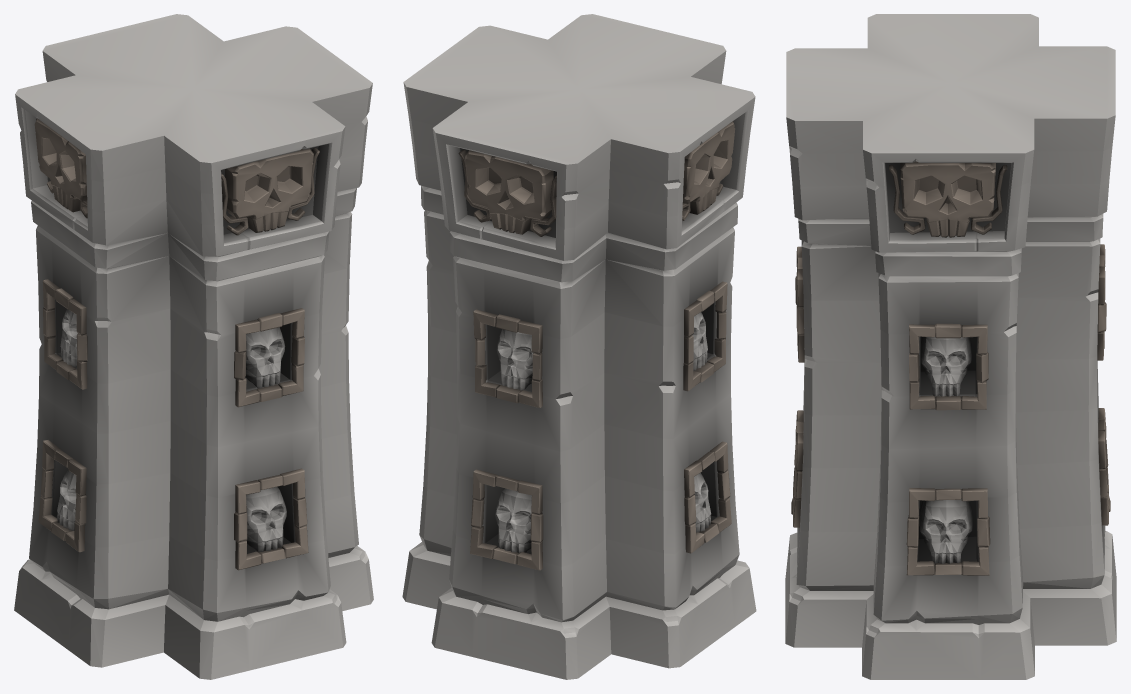
File: obj_columnSkull_large.FBX
3 renders of one model, left to right at view 1: azimuth 30°, elevation 25°; view 2: azimuth 150°, elevation 25°; view 3: azimuth 270°, elevation 25°, orthographic. The views are drawn at different scales.
Visible parts, largest first — view 1: obj_columnSkull_large; view 2: obj_columnSkull_large; view 3: obj_columnSkull_large.
Boxes of the visible parts, x1=… form: obj_columnSkull_large: x1=14, y1=14, x2=373, y2=679; obj_columnSkull_large: x1=402, y1=14, x2=756, y2=679; obj_columnSkull_large: x1=785, y1=14, x2=1116, y2=679.
Size of the model in its own units: 3.42 by 6 by 3.42.
